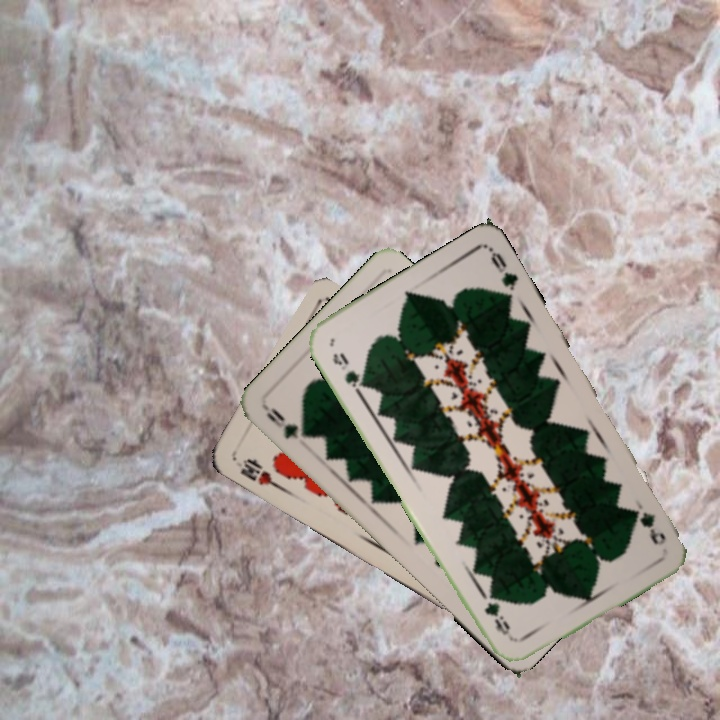G9: (629, 496, 669, 548), (260, 403, 312, 442), (328, 348, 369, 396)
H10: (236, 454, 284, 492)
